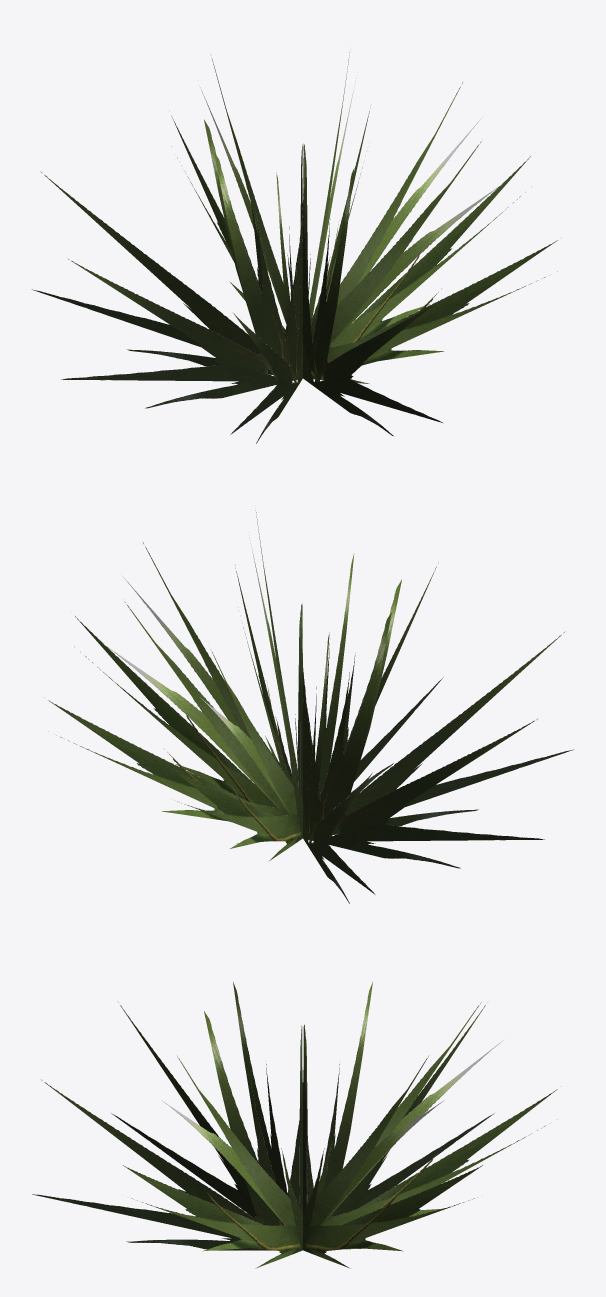
Rendered from Grass.dae.
The picture shows the model from 3 angles, top to bottom: view 1: azimuth 30°, elevation 25°; view 2: azimuth 150°, elevation 25°; view 3: azimuth 270°, elevation 25°; orthographic projection. The views are drawn at different scales.
Parts seen in each view (by area): view 1: group_2 (×2), group_0, group_3; view 2: group_2 (×2), group_3, group_0; view 3: group_0, group_2, group_3.
Part boxes in pixels (x1,y1,x2,y2): group_2 (×2): [31, 82, 561, 408]; group_0: [171, 54, 443, 436]; group_3: [230, 50, 370, 443]; group_2 (×2): [74, 510, 544, 903]; group_3: [44, 579, 574, 843]; group_0: [171, 553, 443, 860]; group_0: [32, 1002, 557, 1250]; group_2: [123, 982, 494, 1268]; group_3: [111, 982, 482, 1268].
Bounding box in the file's own units: 23.6 × 23.6 × 12.33.
1 material, 1 textured.
